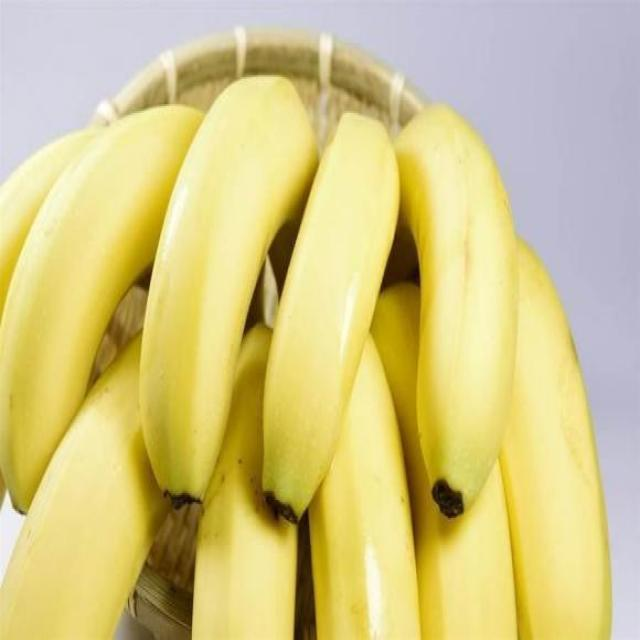Banana: (399, 32, 532, 518), (143, 64, 284, 498), (281, 93, 398, 564)
